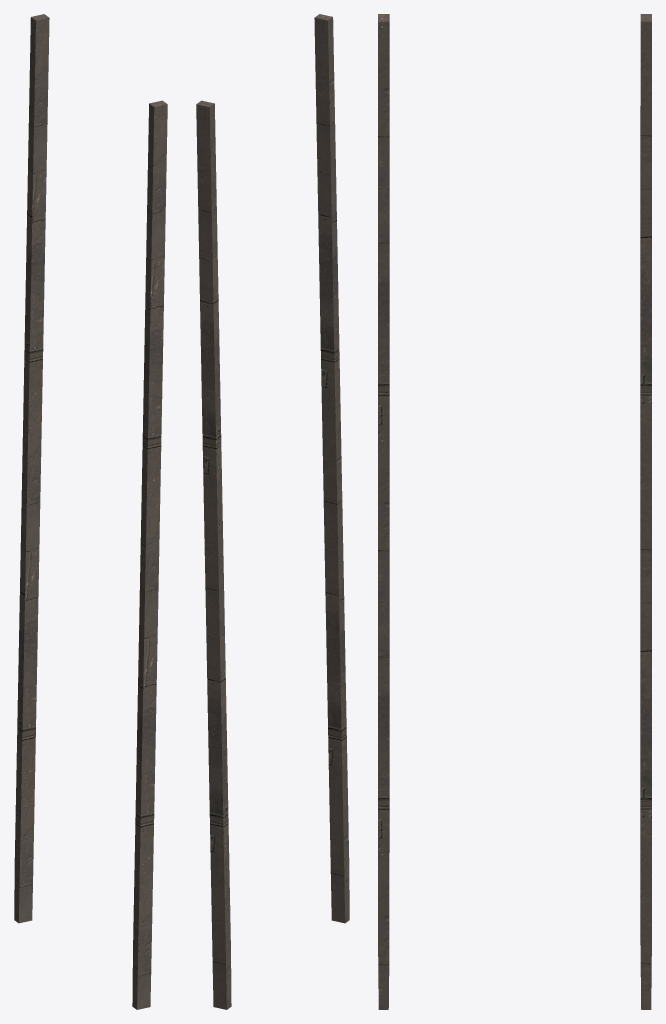
File: SM_Corridor_04_metal.fbx
3 renders of one model, left to right at view 1: azimuth 30°, elevation 25°; view 2: azimuth 150°, elevation 25°; view 3: azimuth 270°, elevation 25°, orthographic. The views are drawn at different scales.
Visible parts, largest first — view 1: SM_Corridor_04_metal; view 2: SM_Corridor_04_metal; view 3: SM_Corridor_04_metal.
Boxes of the visible parts, <box> form: SM_Corridor_04_metal: <box>14,14,167,1009</box>; SM_Corridor_04_metal: <box>196,14,349,1009</box>; SM_Corridor_04_metal: <box>378,14,651,1009</box>.
Size of the model in its own units: 33.91 by 955 by 238.
